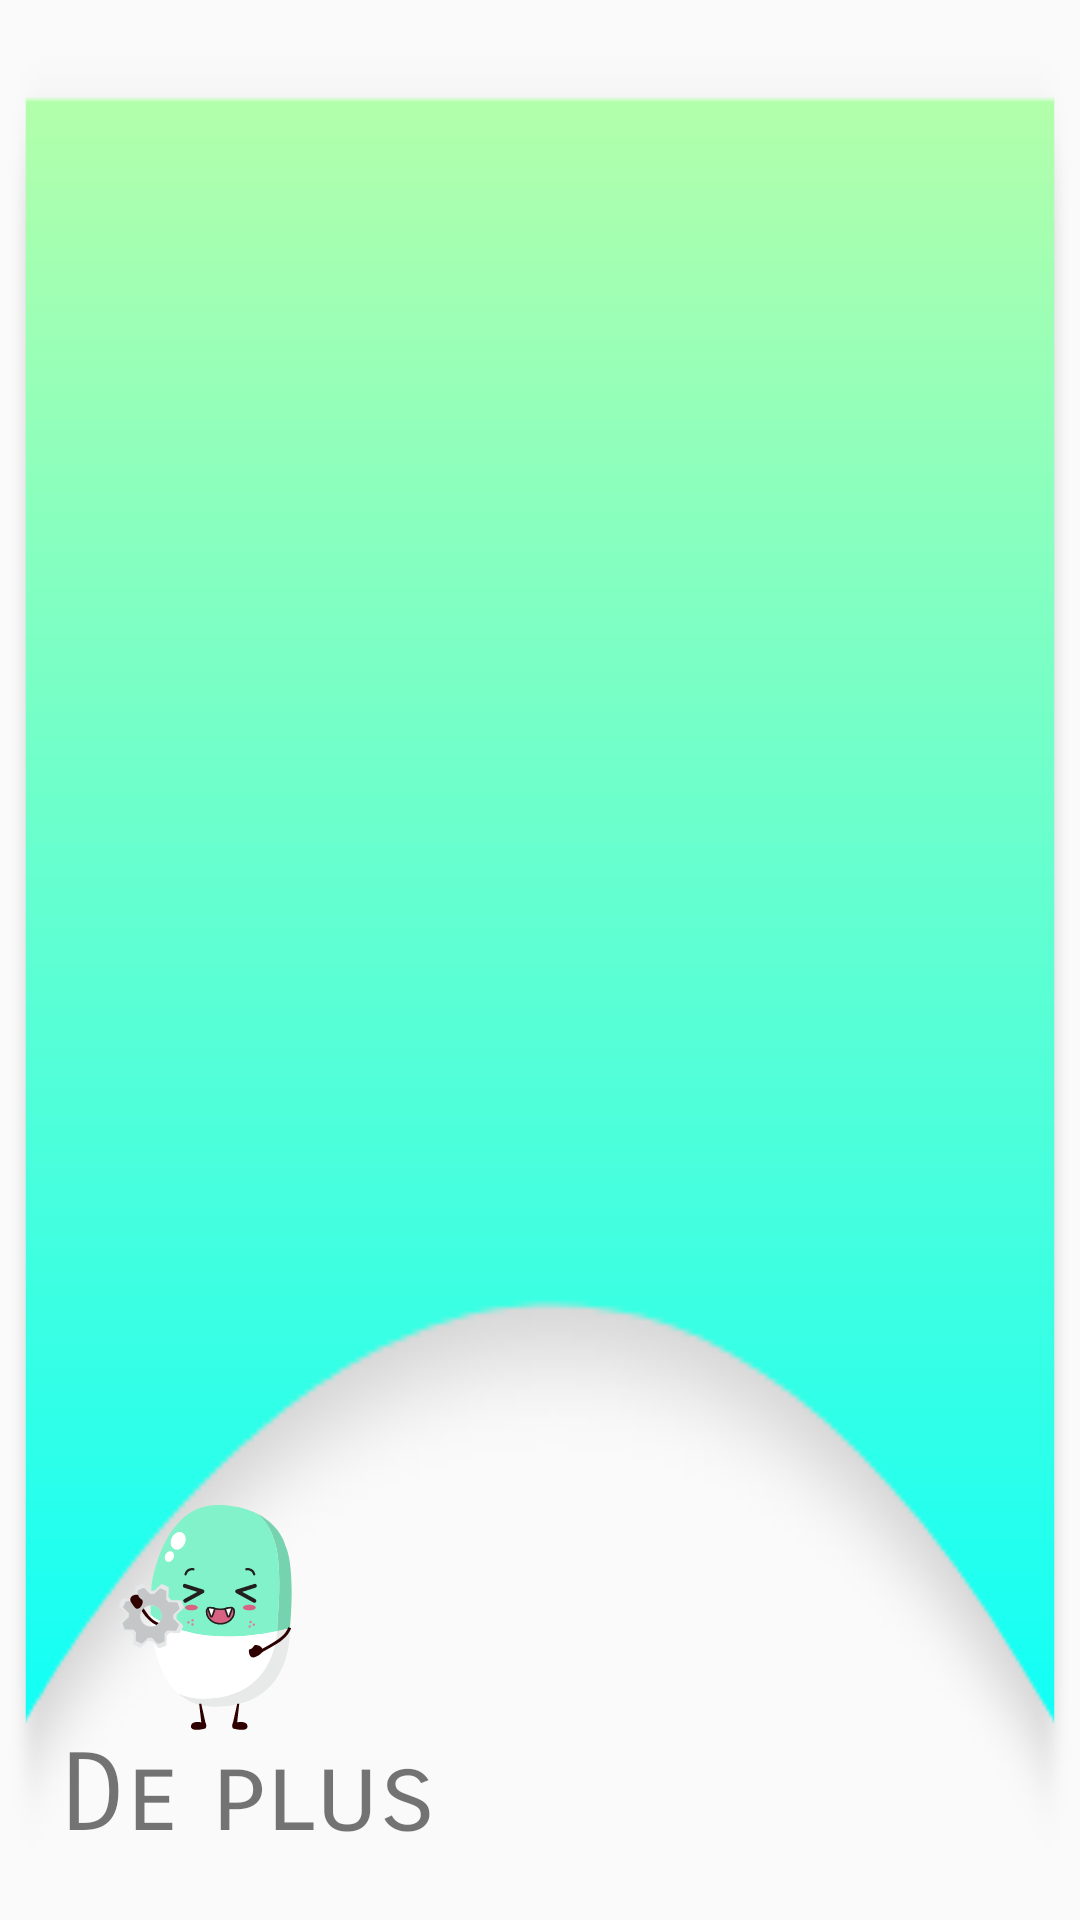

Icons on this 1080*1920 Android screen, each with its box as {"left": x1, "top": y1, "right": x2, "bottom": y2}:
piluparam: {"left": 60, "top": 1505, "right": 292, "bottom": 1730}
